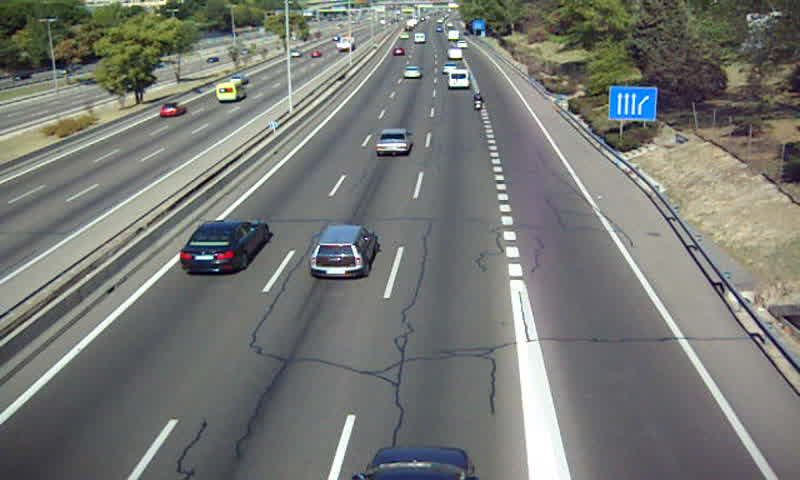car: (178, 220, 267, 274), (310, 224, 378, 276), (377, 127, 412, 153), (403, 64, 421, 78)
motorcycle: (473, 91, 485, 110)
van: (448, 68, 470, 90), (449, 49, 464, 60)
